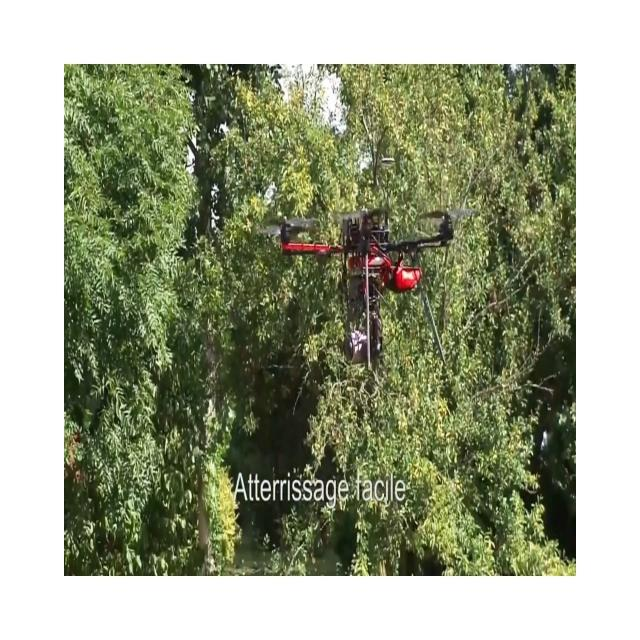drone: (262, 203, 474, 370)
